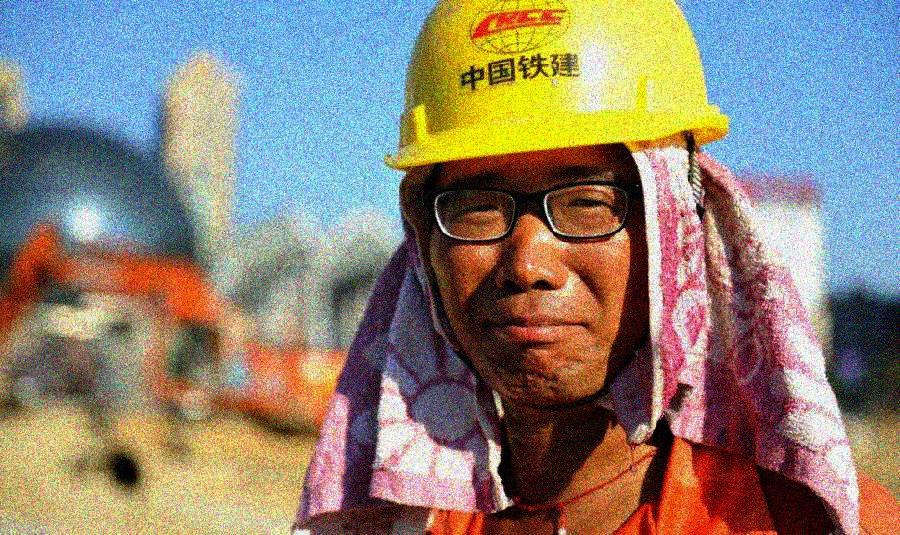helmet: (378, 1, 729, 406)
